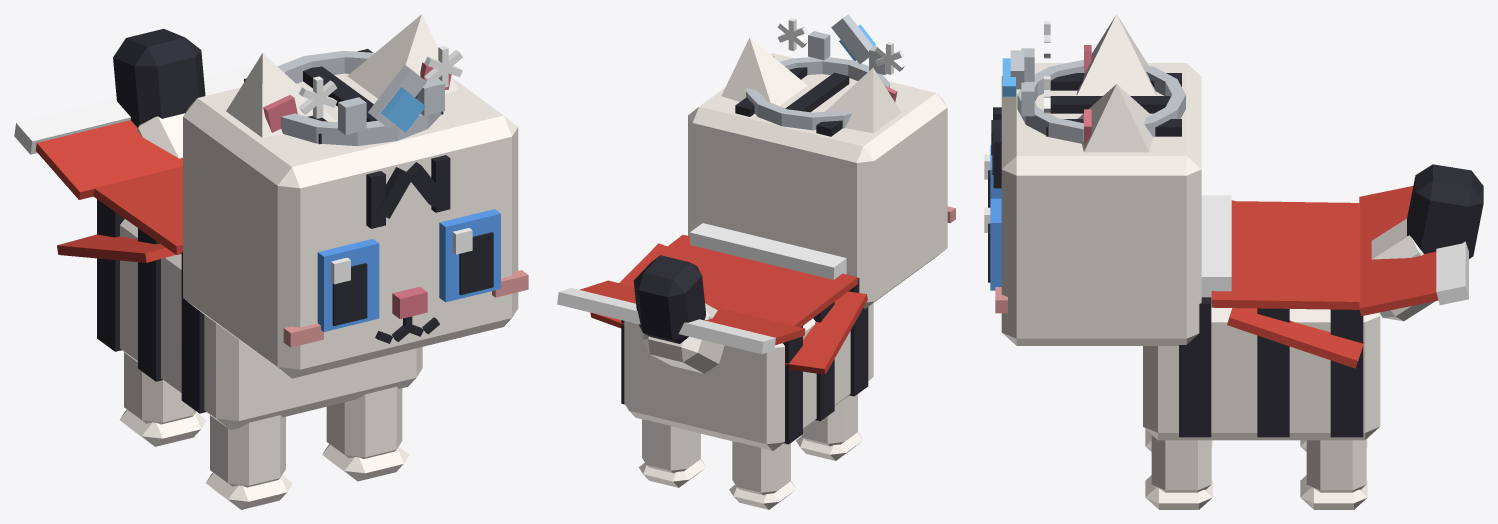
Rendered from CatCafe_Cat_WhiteTiger.fbx.
3 views of the same model, side by side, from view 1: azimuth 30°, elevation 25°; view 2: azimuth 150°, elevation 25°; view 3: azimuth 270°, elevation 25° (orthographic). The views are drawn at different scales.
Visible parts, largest first — view 1: CatCafe_Cat_WhiteTiger_Head, CatCafe_Cat_WhiteTiger_Body, CatCafe_Cat_WhiteTiger_Prop, CatCafe_Cat_WhiteTiger_Prop2, CatCafe_Cat_WhiteTiger_Tail, CatCafe_Cat_WhiteTiger_LegF2, CatCafe_Cat_WhiteTiger_LegF1, CatCafe_Cat_WhiteTiger_Eye2, CatCafe_Cat_WhiteTiger_Eye1, CatCafe_Cat_WhiteTiger_LegB2, CatCafe_Cat_WhiteTiger_EarR, CatCafe_Cat_WhiteTiger_EarL (+1 smaller); view 2: CatCafe_Cat_WhiteTiger_Head, CatCafe_Cat_WhiteTiger_Prop, CatCafe_Cat_WhiteTiger_Body, CatCafe_Cat_WhiteTiger_Tail, CatCafe_Cat_WhiteTiger_Prop2, CatCafe_Cat_WhiteTiger_LegB2, CatCafe_Cat_WhiteTiger_LegB1, CatCafe_Cat_WhiteTiger_EarL, CatCafe_Cat_WhiteTiger_EarR, CatCafe_Cat_WhiteTiger_LegF2; view 3: CatCafe_Cat_WhiteTiger_Head, CatCafe_Cat_WhiteTiger_Prop, CatCafe_Cat_WhiteTiger_Body, CatCafe_Cat_WhiteTiger_Tail, CatCafe_Cat_WhiteTiger_Prop2, CatCafe_Cat_WhiteTiger_LegF1, CatCafe_Cat_WhiteTiger_LegB1, CatCafe_Cat_WhiteTiger_EarR, CatCafe_Cat_WhiteTiger_EarL, CatCafe_Cat_WhiteTiger_Eye1.
Boxes of the visible parts, <box> form: CatCafe_Cat_WhiteTiger_Head: <box>183,49,528,378</box>; CatCafe_Cat_WhiteTiger_Body: <box>97,199,422,429</box>; CatCafe_Cat_WhiteTiger_Prop: <box>14,58,284,262</box>; CatCafe_Cat_WhiteTiger_Prop2: <box>277,45,462,146</box>; CatCafe_Cat_WhiteTiger_Tail: <box>113,28,205,158</box>; CatCafe_Cat_WhiteTiger_LegF2: <box>206,415,292,509</box>; CatCafe_Cat_WhiteTiger_LegF1: <box>322,386,409,481</box>; CatCafe_Cat_WhiteTiger_Eye2: <box>317,239,379,331</box>; CatCafe_Cat_WhiteTiger_Eye1: <box>439,209,500,302</box>; CatCafe_Cat_WhiteTiger_LegB2: <box>120,352,206,446</box>; CatCafe_Cat_WhiteTiger_EarR: <box>226,53,337,137</box>; CatCafe_Cat_WhiteTiger_EarL: <box>347,14,458,98</box>; CatCafe_Cat_WhiteTiger_Head: <box>688,53,955,308</box>; CatCafe_Cat_WhiteTiger_Prop: <box>557,223,867,374</box>; CatCafe_Cat_WhiteTiger_Body: <box>621,278,873,450</box>; CatCafe_Cat_WhiteTiger_Tail: <box>633,255,724,373</box>; CatCafe_Cat_WhiteTiger_Prop2: <box>746,14,904,130</box>; CatCafe_Cat_WhiteTiger_LegB2: <box>729,441,796,509</box>; CatCafe_Cat_WhiteTiger_LegB1: <box>639,419,705,487</box>; CatCafe_Cat_WhiteTiger_EarL: <box>721,37,807,105</box>; CatCafe_Cat_WhiteTiger_EarR: <box>825,68,901,133</box>; CatCafe_Cat_WhiteTiger_LegF2: <box>796,394,862,460</box>; CatCafe_Cat_WhiteTiger_Head: <box>991,63,1201,345</box>; CatCafe_Cat_WhiteTiger_Prop: <box>1201,186,1468,368</box>; CatCafe_Cat_WhiteTiger_Body: <box>1143,297,1380,440</box>; CatCafe_Cat_WhiteTiger_Tail: <box>1371,164,1483,321</box>; CatCafe_Cat_WhiteTiger_Prop2: <box>1010,21,1185,143</box>; CatCafe_Cat_WhiteTiger_LegF1: <box>1145,435,1212,509</box>; CatCafe_Cat_WhiteTiger_LegB1: <box>1300,439,1367,509</box>; CatCafe_Cat_WhiteTiger_EarR: <box>1076,14,1156,95</box>; CatCafe_Cat_WhiteTiger_EarL: <box>1078,84,1152,152</box>; CatCafe_Cat_WhiteTiger_Eye1: <box>984,198,1001,290</box>.
Bounding box in the file's own units: 1.51 × 2.28 × 2.4.
Materials: 1 (1 with a texture image).
